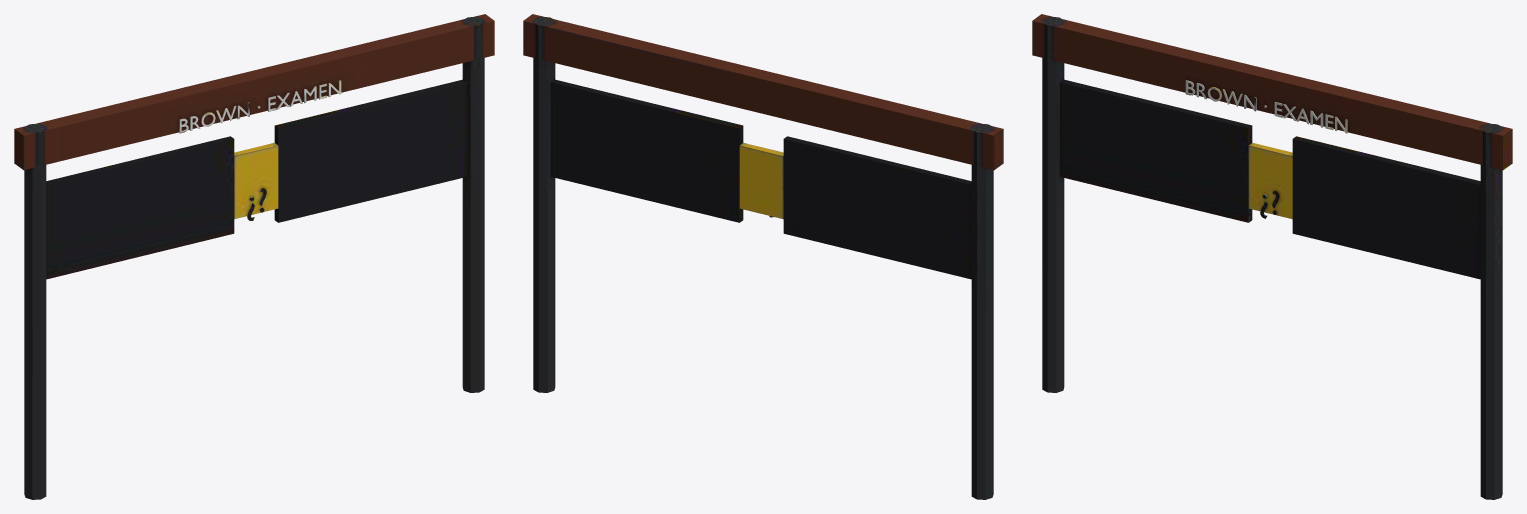
Rendered from arco_examen.glb.
3 views of the same model, side by side, from view 1: azimuth 30°, elevation 25°; view 2: azimuth 150°, elevation 25°; view 3: azimuth 330°, elevation 25° (orthographic).
Visible parts, largest first — view 1: arco_examen; view 2: arco_examen; view 3: arco_examen.
Boxes of the visible parts, x1,y1,x2,y2 form: arco_examen: [14, 14, 494, 499]; arco_examen: [523, 14, 1003, 499]; arco_examen: [1032, 14, 1512, 499].
Bounding box in the file's own units: 8.6 × 6.4 × 0.37.
1 material, 1 textured.
